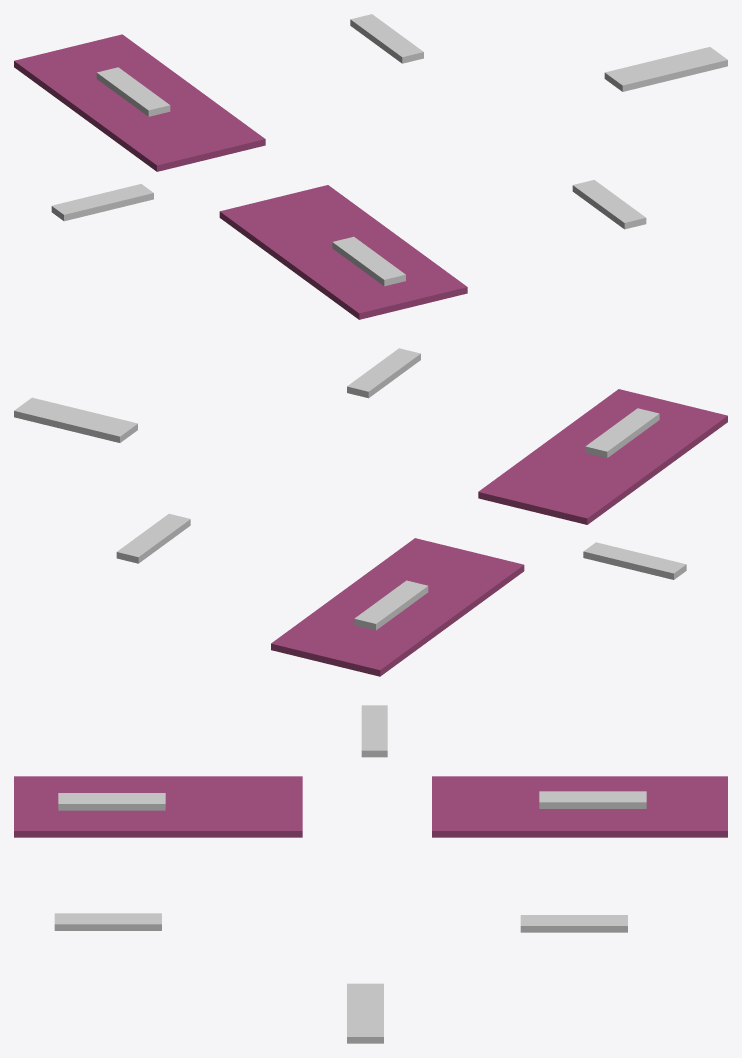
Rendered from Terrific Wolt (2).glb.
3 renders of one model, top to bottom at view 1: azimuth 30°, elevation 25°; view 2: azimuth 150°, elevation 25°; view 3: azimuth 270°, elevation 25°, orthographic. The views are drawn at different scales.
Visible parts, largest first — view 1: Mesh_Mesh_head_geo.001_lambert2SG.001; view 2: Mesh_Mesh_head_geo.001_lambert2SG.001; view 3: Mesh_Mesh_head_geo.001_lambert2SG.001.
Boxes of the visible parts, left/top/right/bottom form: Mesh_Mesh_head_geo.001_lambert2SG.001: left=14, top=14, right=727, bottom=319; Mesh_Mesh_head_geo.001_lambert2SG.001: left=14, top=348, right=727, bottom=676; Mesh_Mesh_head_geo.001_lambert2SG.001: left=14, top=705, right=727, bottom=1043.
Size of the model in its own units: 0.212 by 0.004 by 0.193.
